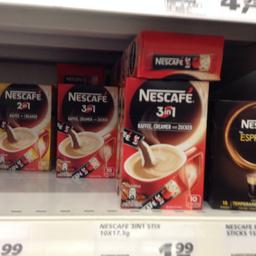coffee: (114, 75, 207, 208), (55, 81, 119, 178), (206, 97, 255, 210), (1, 81, 50, 170)
